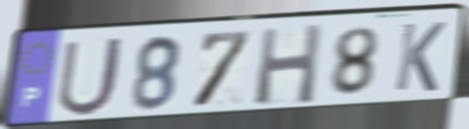7: (193, 28, 252, 111)
8: (129, 33, 183, 114), (329, 25, 382, 97)
H: (252, 21, 326, 108)
K: (391, 20, 449, 94)
U: (54, 34, 128, 119)
